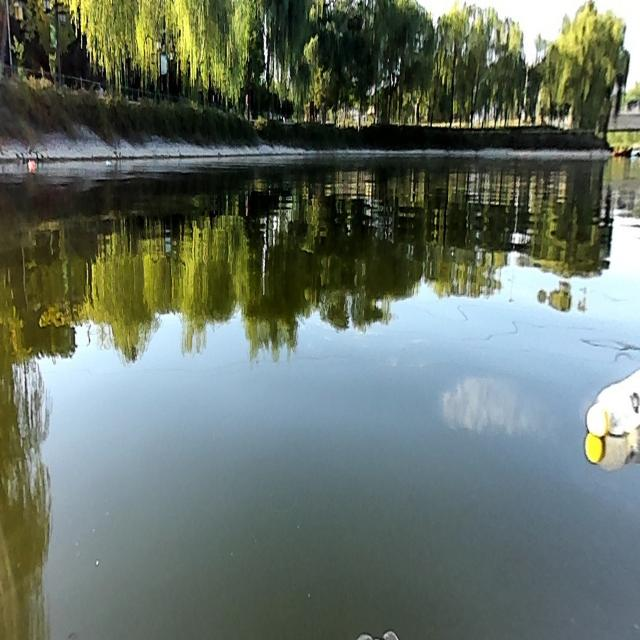bottle: (584, 354, 640, 439)
